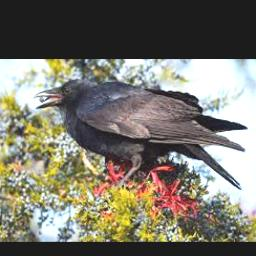Crow: (33, 80, 247, 191)
